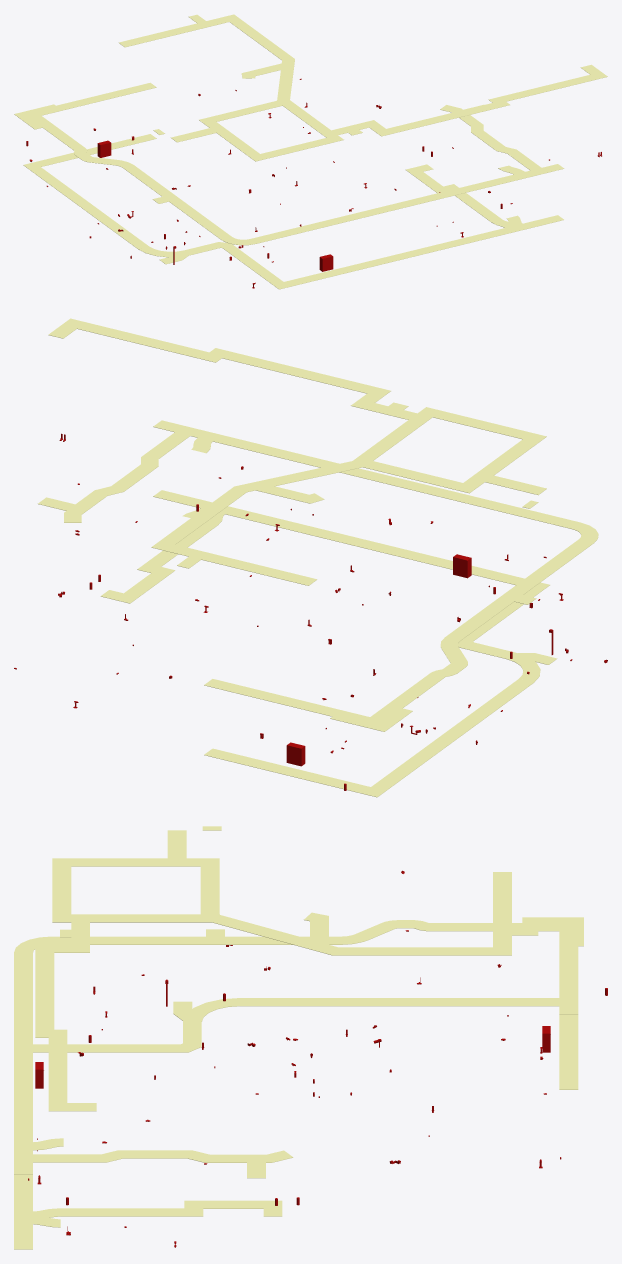
File: HULDRA-HA-SAFE.gltf
3 renders of one model, top to bottom at view 1: azimuth 30°, elevation 25°; view 2: azimuth 150°, elevation 25°; view 3: azimuth 270°, elevation 25°, orthographic. The views are drawn at different scales.
Parts seen in each view (by area): view 1: BOX_24_of_SUBSTRUCTURE_/ESCAPE-MEZZ/FLOOR_Mesh.10215, BOX_21_of_SUBSTRUCTURE_/ESCAPE-CELLAR/FLOOR_Mesh.10192, BOX_9_of_SUBSTRUCTURE_/ESCAPE-CELLAR/FLOOR_Mesh.10185, BOX_14_of_SUBSTRUCTURE_/ESCAPE-MEZZ/FLOOR_Mesh.10204, BOX_34_of_SUBSTRUCTURE_/ESCAPE-WEATH/FLOOR_Mesh.10232, BOX_6_of_SUBSTRUCTURE_/ESCAPE-WEATH/FLOOR_Mesh.10227, BOX_2_of_SUBSTRUCTURE_/ESCAPE-MEZZ/FLOOR_Mesh.10201, BOX_2_of_SUBSTRUCTURE_/ESCAPE-CELLAR/FLOOR_Mesh.10183, BOX_37_of_SUBSTRUCTURE_/ESCAPE-WEATH/FLOOR_Mesh.10235, BOX_7_of_SUBSTRUCTURE_/ESCAPE-WEATH/FLOOR_Mesh.10228, BOX_14_of_SUBSTRUCTURE_/ESCAPE-CELLAR/FLOOR_Mesh.10191, BOX_6_of_SUBSTRUCTURE_/ESCAPE-MEZZ/FLOOR_Mesh.10203 (+10 smaller); view 2: BOX_24_of_SUBSTRUCTURE_/ESCAPE-MEZZ/FLOOR_Mesh.10215, BOX_21_of_SUBSTRUCTURE_/ESCAPE-CELLAR/FLOOR_Mesh.10192, BOX_9_of_SUBSTRUCTURE_/ESCAPE-CELLAR/FLOOR_Mesh.10185, BOX_14_of_SUBSTRUCTURE_/ESCAPE-MEZZ/FLOOR_Mesh.10204, BOX_34_of_SUBSTRUCTURE_/ESCAPE-WEATH/FLOOR_Mesh.10232, BOX_2_of_SUBSTRUCTURE_/ESCAPE-CELLAR/FLOOR_Mesh.10183, BOX_6_of_SUBSTRUCTURE_/ESCAPE-WEATH/FLOOR_Mesh.10227, BOX_2_of_SUBSTRUCTURE_/ESCAPE-MEZZ/FLOOR_Mesh.10201, BOX_7_of_SUBSTRUCTURE_/ESCAPE-WEATH/FLOOR_Mesh.10228, BOX_37_of_SUBSTRUCTURE_/ESCAPE-WEATH/FLOOR_Mesh.10235, BOX_6_of_SUBSTRUCTURE_/ESCAPE-MEZZ/FLOOR_Mesh.10203, BOX_9_of_SUBSTRUCTURE_/ESCAPE-WEATH/FLOOR_Mesh.10230 (+11 smaller); view 3: BOX_24_of_SUBSTRUCTURE_/ESCAPE-MEZZ/FLOOR_Mesh.10215, BOX_9_of_SUBSTRUCTURE_/ESCAPE-CELLAR/FLOOR_Mesh.10185, BOX_14_of_SUBSTRUCTURE_/ESCAPE-MEZZ/FLOOR_Mesh.10204, BOX_34_of_SUBSTRUCTURE_/ESCAPE-WEATH/FLOOR_Mesh.10232, BOX_2_of_SUBSTRUCTURE_/ESCAPE-CELLAR/FLOOR_Mesh.10183, BOX_6_of_SUBSTRUCTURE_/ESCAPE-WEATH/FLOOR_Mesh.10227, BOX_7_of_SUBSTRUCTURE_/ESCAPE-WEATH/FLOOR_Mesh.10228, BOX_21_of_SUBSTRUCTURE_/ESCAPE-CELLAR/FLOOR_Mesh.10192, BOX_2_of_SUBSTRUCTURE_/ESCAPE-MEZZ/FLOOR_Mesh.10201, BOX_37_of_SUBSTRUCTURE_/ESCAPE-WEATH/FLOOR_Mesh.10235, BOX_14_of_SUBSTRUCTURE_/ESCAPE-CELLAR/FLOOR_Mesh.10191, BOX_9_of_SUBSTRUCTURE_/ESCAPE-WEATH/FLOOR_Mesh.10230 (+16 smaller).
Part boxes in pixels (x1,y1,x2,y2): BOX_24_of_SUBSTRUCTURE_/ESCAPE-MEZZ/FLOOR_Mesh.10215: [336, 164, 564, 222]; BOX_21_of_SUBSTRUCTURE_/ESCAPE-CELLAR/FLOOR_Mesh.10192: [336, 215, 563, 273]; BOX_9_of_SUBSTRUCTURE_/ESCAPE-CELLAR/FLOOR_Mesh.10185: [23, 162, 148, 248]; BOX_14_of_SUBSTRUCTURE_/ESCAPE-MEZZ/FLOOR_Mesh.10204: [123, 165, 231, 239]; BOX_34_of_SUBSTRUCTURE_/ESCAPE-WEATH/FLOOR_Mesh.10232: [375, 100, 509, 136]; BOX_6_of_SUBSTRUCTURE_/ESCAPE-WEATH/FLOOR_Mesh.10227: [119, 14, 239, 47]; BOX_2_of_SUBSTRUCTURE_/ESCAPE-MEZZ/FLOOR_Mesh.10201: [56, 82, 156, 110]; BOX_2_of_SUBSTRUCTURE_/ESCAPE-CELLAR/FLOOR_Mesh.10183: [34, 134, 156, 166]; BOX_37_of_SUBSTRUCTURE_/ESCAPE-WEATH/FLOOR_Mesh.10235: [249, 135, 343, 161]; BOX_7_of_SUBSTRUCTURE_/ESCAPE-WEATH/FLOOR_Mesh.10228: [229, 19, 294, 59]; BOX_14_of_SUBSTRUCTURE_/ESCAPE-CELLAR/FLOOR_Mesh.10191: [220, 244, 283, 284]; BOX_6_of_SUBSTRUCTURE_/ESCAPE-MEZZ/FLOOR_Mesh.10203: [250, 218, 341, 243]; BOX_24_of_SUBSTRUCTURE_/ESCAPE-MEZZ/FLOOR_Mesh.10215: [153, 420, 464, 500]; BOX_21_of_SUBSTRUCTURE_/ESCAPE-CELLAR/FLOOR_Mesh.10192: [153, 490, 452, 569]; BOX_9_of_SUBSTRUCTURE_/ESCAPE-CELLAR/FLOOR_Mesh.10185: [362, 679, 533, 797]; BOX_14_of_SUBSTRUCTURE_/ESCAPE-MEZZ/FLOOR_Mesh.10204: [445, 539, 593, 640]; BOX_34_of_SUBSTRUCTURE_/ESCAPE-WEATH/FLOOR_Mesh.10232: [207, 348, 390, 397]; BOX_2_of_SUBSTRUCTURE_/ESCAPE-CELLAR/FLOOR_Mesh.10183: [204, 748, 370, 793]; BOX_6_of_SUBSTRUCTURE_/ESCAPE-WEATH/FLOOR_Mesh.10227: [151, 541, 316, 585]; BOX_2_of_SUBSTRUCTURE_/ESCAPE-MEZZ/FLOOR_Mesh.10201: [204, 679, 340, 716]; BOX_7_of_SUBSTRUCTURE_/ESCAPE-WEATH/FLOOR_Mesh.10228: [160, 486, 248, 544]; BOX_37_of_SUBSTRUCTURE_/ESCAPE-WEATH/FLOOR_Mesh.10235: [418, 407, 546, 442]; BOX_6_of_SUBSTRUCTURE_/ESCAPE-MEZZ/FLOOR_Mesh.10203: [456, 494, 580, 529]; BOX_9_of_SUBSTRUCTURE_/ESCAPE-WEATH/FLOOR_Mesh.10230: [234, 461, 374, 492]; BOX_24_of_SUBSTRUCTURE_/ESCAPE-MEZZ/FLOOR_Mesh.10215: [14, 1014, 32, 1174]; BOX_9_of_SUBSTRUCTURE_/ESCAPE-CELLAR/FLOOR_Mesh.10185: [239, 998, 559, 1006]; BOX_14_of_SUBSTRUCTURE_/ESCAPE-MEZZ/FLOOR_Mesh.10204: [52, 936, 341, 944]; BOX_34_of_SUBSTRUCTURE_/ESCAPE-WEATH/FLOOR_Mesh.10232: [35, 944, 54, 1037]; BOX_2_of_SUBSTRUCTURE_/ESCAPE-CELLAR/FLOOR_Mesh.10183: [559, 1014, 578, 1089]; BOX_6_of_SUBSTRUCTURE_/ESCAPE-WEATH/FLOOR_Mesh.10227: [493, 872, 511, 955]; BOX_7_of_SUBSTRUCTURE_/ESCAPE-WEATH/FLOOR_Mesh.10228: [332, 947, 492, 955]; BOX_21_of_SUBSTRUCTURE_/ESCAPE-CELLAR/FLOOR_Mesh.10192: [14, 1174, 32, 1249]; BOX_2_of_SUBSTRUCTURE_/ESCAPE-MEZZ/FLOOR_Mesh.10201: [559, 946, 578, 1014]; BOX_37_of_SUBSTRUCTURE_/ESCAPE-WEATH/FLOOR_Mesh.10235: [52, 858, 71, 922]; BOX_14_of_SUBSTRUCTURE_/ESCAPE-CELLAR/FLOOR_Mesh.10191: [33, 1044, 188, 1052]; BOX_9_of_SUBSTRUCTURE_/ESCAPE-WEATH/FLOOR_Mesh.10230: [202, 911, 337, 955].
Size of the model in its own units: 41.19 by 13.17 by 31.4.
